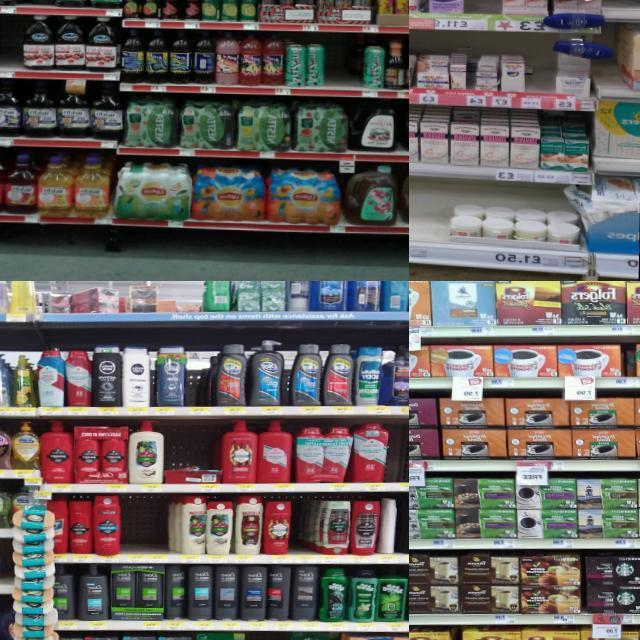empty: (409, 180, 449, 253), (324, 33, 356, 96), (122, 496, 144, 562), (186, 348, 207, 414), (532, 53, 556, 109), (148, 496, 168, 563), (0, 15, 21, 77), (292, 498, 311, 563), (390, 426, 409, 491), (464, 0, 499, 30), (610, 0, 637, 21)
